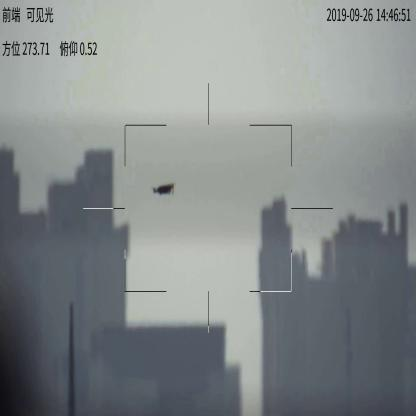uav: (148, 182, 176, 198)
